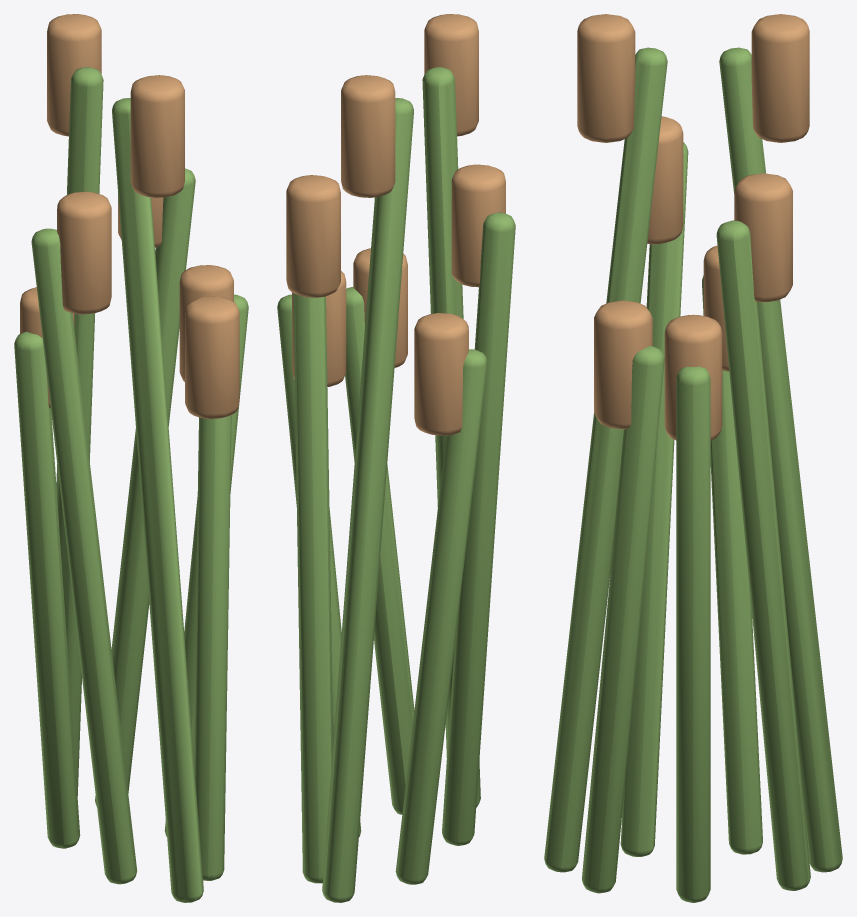
The model's file is reeds.glb.
3 renders of one model, left to right at view 1: azimuth 30°, elevation 25°; view 2: azimuth 150°, elevation 25°; view 3: azimuth 270°, elevation 25°, orthographic. The views are drawn at different scales.
Parts seen in each view (by area): view 1: reeds; view 2: reeds; view 3: reeds.
Boxes of the visible parts, x1,y1,x2,y2 form: reeds: [14, 14, 248, 902]; reeds: [277, 14, 515, 902]; reeds: [544, 14, 842, 902].
Size of the model in its own units: 0.482 by 1.66 by 0.532.
